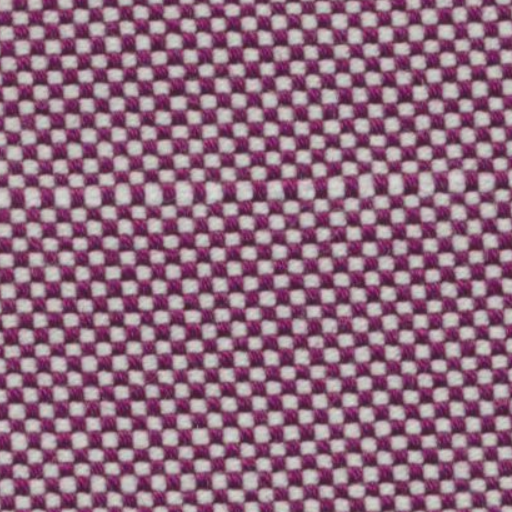TuoSha: (8, 158, 505, 224)
